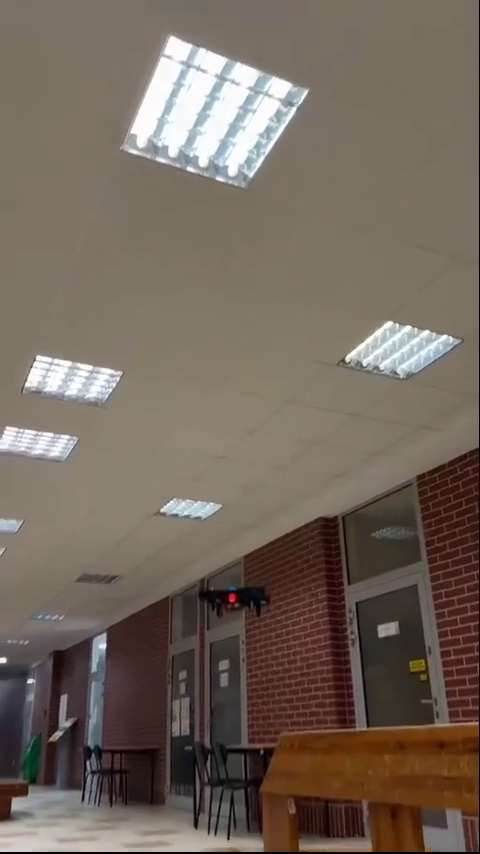drone: (204, 583, 265, 616)
